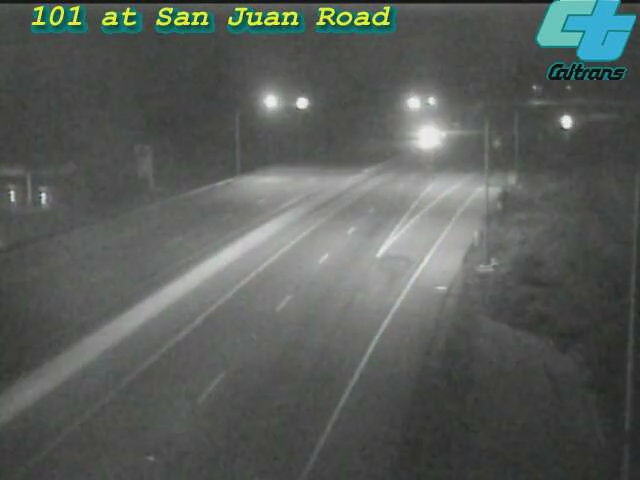vehicle: (400, 113, 450, 163), (541, 97, 591, 147)
